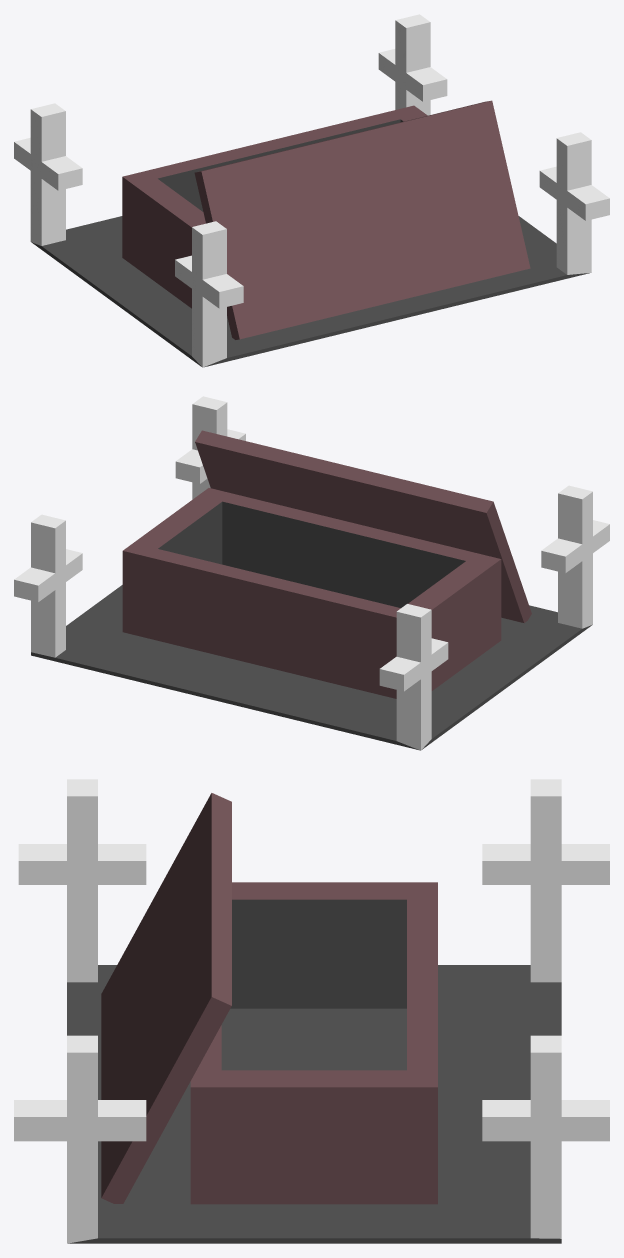
Rendered from MonsterGrave.fbx.
The picture shows the model from 3 angles, top to bottom: view 1: azimuth 30°, elevation 25°; view 2: azimuth 150°, elevation 25°; view 3: azimuth 270°, elevation 25°; orthographic projection. The views are drawn at different scales.
Visible parts, largest first — view 1: Cube.001, Cube; view 2: Cube, Cube.001; view 3: Cube, Cube.001.
Part boxes in pixels (x1=…): Cube.001: x1=194, y1=100, x2=530, y2=339; Cube: x1=14, y1=14, x2=609, y2=367; Cube: x1=14, y1=396, x2=609, y2=750; Cube.001: x1=195, y1=430, x2=531, y2=622; Cube: x1=14, y1=779, x2=609, y2=1243; Cube.001: x1=101, y1=793, x2=231, y2=1203.
Bounding box in the file's own units: 4013 × 1454 × 3700.
